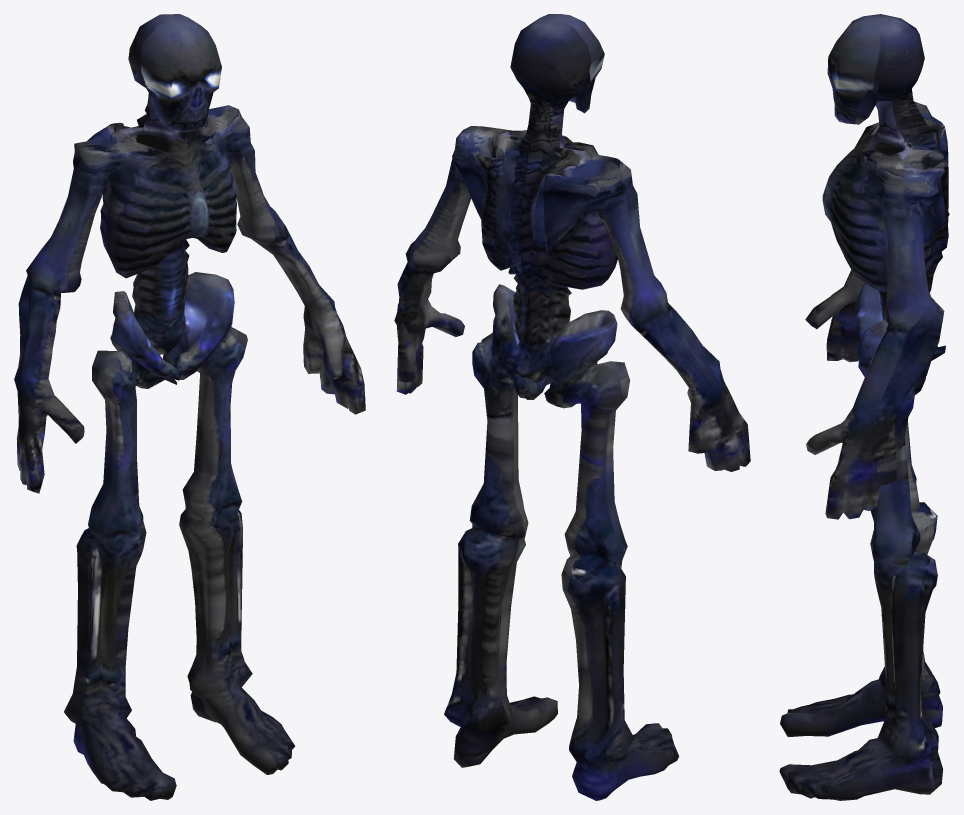
File: boneman-overview-v1.glb
3 renders of one model, left to right at view 1: azimuth 30°, elevation 25°; view 2: azimuth 150°, elevation 25°; view 3: azimuth 270°, elevation 25°, orthographic.
Visible parts, largest first — view 1: boneman; view 2: boneman; view 3: boneman.
Part boxes in pixels (x1,y1,x2,y2): boneman: (14, 14, 365, 800); boneman: (394, 14, 750, 800); boneman: (779, 14, 949, 800).
Size of the model in its own units: 0.9465 by 1.99 by 0.4138.
Materials: 1 (1 with a texture image).
